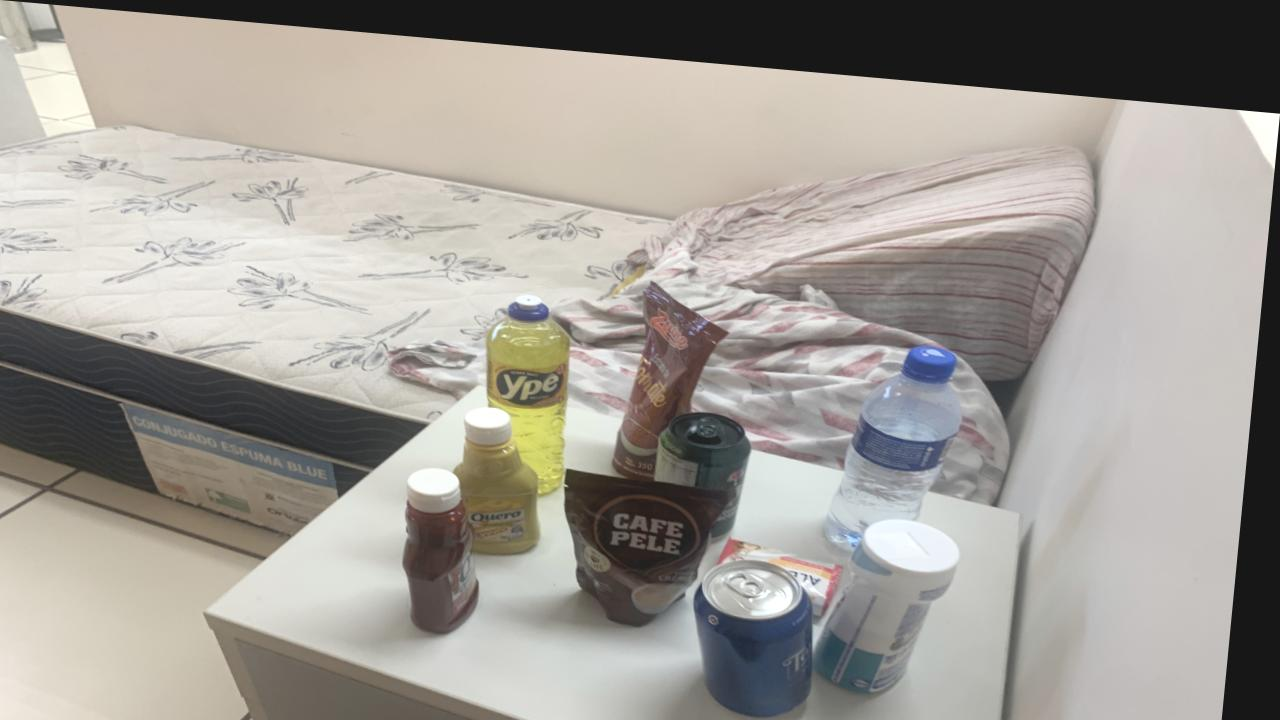Cleaner-Cleanup_Items: (825, 501, 970, 677)
Coffee-Pantry_Items: (573, 459, 735, 613)
Detergent-Cleanup_Items: (492, 284, 576, 483)
Guarana_Can-Drinks: (663, 398, 759, 524)
Ketchup-Pantry_Items: (413, 459, 489, 624)
Mustard-Pantry_Items: (462, 397, 549, 545)
Soap-Cleanup_Items: (728, 525, 853, 599)
Tomato_Sauce-Pantry_Items: (622, 272, 730, 466)
Tonic-Drinks: (704, 545, 825, 701)
Water_Bottle-Drinks: (833, 327, 968, 533)
